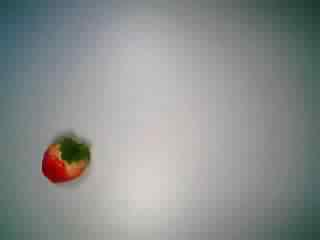strawberry: (31, 124, 97, 190)
